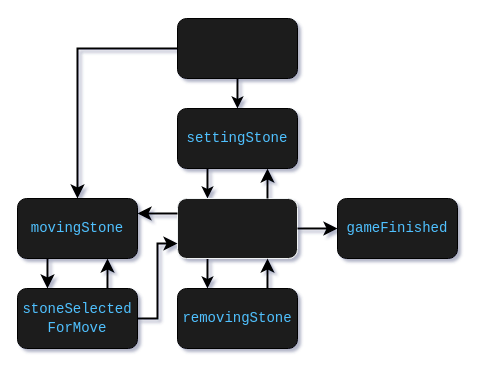
Some shapes in this 481 by 372 pixel diagram are drawn without their labels. Here are the shapes that lost their labels. From the top down, the centre of each, then its label:
(237,48): newGameYetBlank
(237,228): animatingStone
